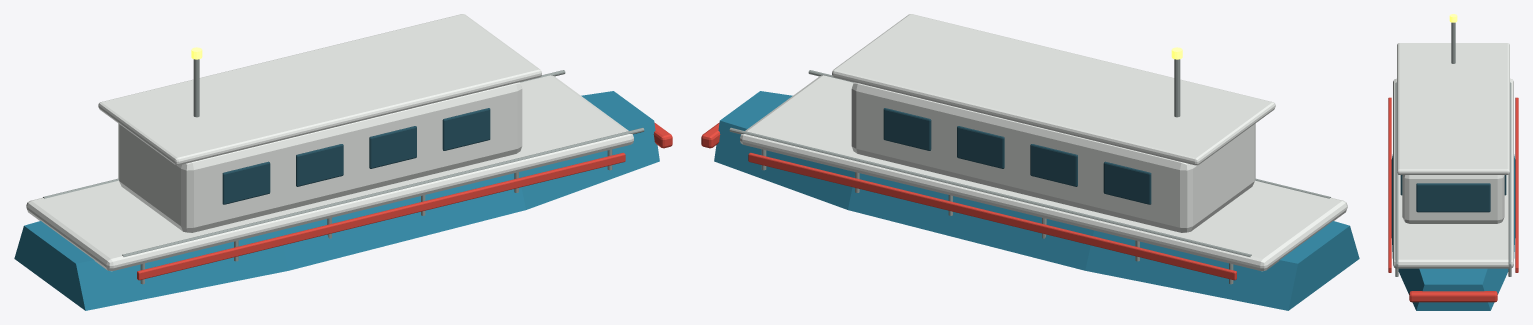
The model's file is transport-passenger-ferry.glb.
3 views of the same model, side by side, from view 1: azimuth 30°, elevation 25°; view 2: azimuth 150°, elevation 25°; view 3: azimuth 270°, elevation 25° (orthographic). The views are drawn at different scales.
Parts seen in each view (by area): view 1: Cabin roof, Ferry hull, Open passenger cabin, Passenger deck, Hull safety stripe, Passenger deck rail, Cabin side window, Cabin side window.003, Cabin side window.001, Cabin side window.002; view 2: Cabin roof, Ferry hull, Open passenger cabin, Passenger deck, Hull safety stripe.001, Passenger deck rail.001, Cabin side window.004, Cabin side window.007, Cabin side window.005, Cabin side window.006; view 3: Cabin roof, Passenger deck, Ferry hull, Open passenger cabin, Cabin front window, Bow bumper, Hull safety stripe, Hull safety stripe.001, Passenger deck rail, Passenger deck rail.001, Navigation mast.
Boxes of the visible parts, <box> form: Cabin roof: <box>98,14,541,165</box>; Ferry hull: <box>14,91,659,310</box>; Open passenger cabin: <box>118,82,522,232</box>; Passenger deck: <box>26,75,633,271</box>; Hull safety stripe: <box>137,152,625,280</box>; Passenger deck rail: <box>122,127,644,256</box>; Cabin side window: <box>222,161,270,204</box>; Cabin side window.003: <box>442,108,490,150</box>; Cabin side window.001: <box>296,144,343,186</box>; Cabin side window.002: <box>369,126,416,168</box>; Cabin roof: <box>832,14,1275,165</box>; Ferry hull: <box>714,91,1359,310</box>; Open passenger cabin: <box>851,82,1255,232</box>; Passenger deck: <box>740,75,1347,271</box>; Hull safety stripe.001: <box>748,152,1236,280</box>; Passenger deck rail.001: <box>729,127,1251,256</box>; Cabin side window.004: <box>1103,161,1151,204</box>; Cabin side window.007: <box>883,108,931,150</box>; Cabin side window.005: <box>1030,144,1077,186</box>; Cabin side window.006: <box>957,126,1004,168</box>; Cabin roof: <box>1397,43,1509,174</box>; Passenger deck: <box>1393,78,1513,268</box>; Ferry hull: <box>1391,154,1515,310</box>; Open passenger cabin: <box>1402,175,1504,223</box>; Cabin front window: <box>1416,183,1490,212</box>; Bow bumper: <box>1409,291,1497,302</box>; Hull safety stripe: <box>1388,97,1391,272</box>; Hull safety stripe.001: <box>1515,97,1518,272</box>; Passenger deck rail: <box>1395,82,1398,266</box>; Passenger deck rail.001: <box>1508,82,1511,266</box>; Navigation mast: <box>1451,22,1455,63</box>.
Size of the model in its own units: 17.78 by 5.71 by 4.72.
